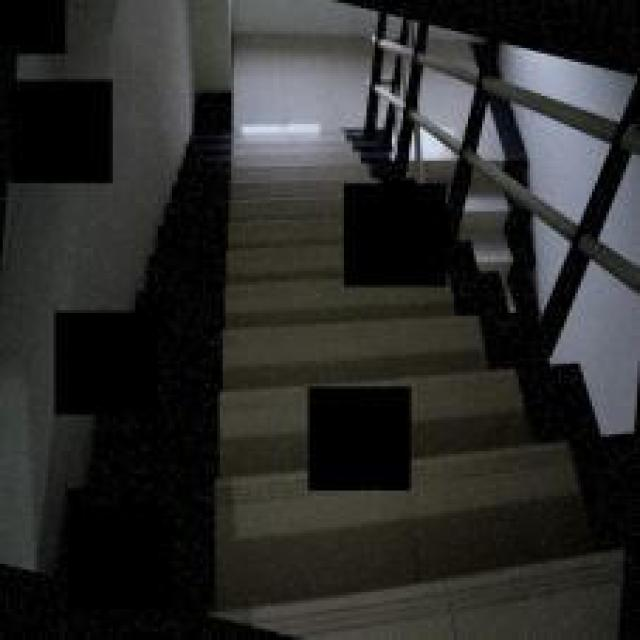downstair: (190, 153, 303, 452)
